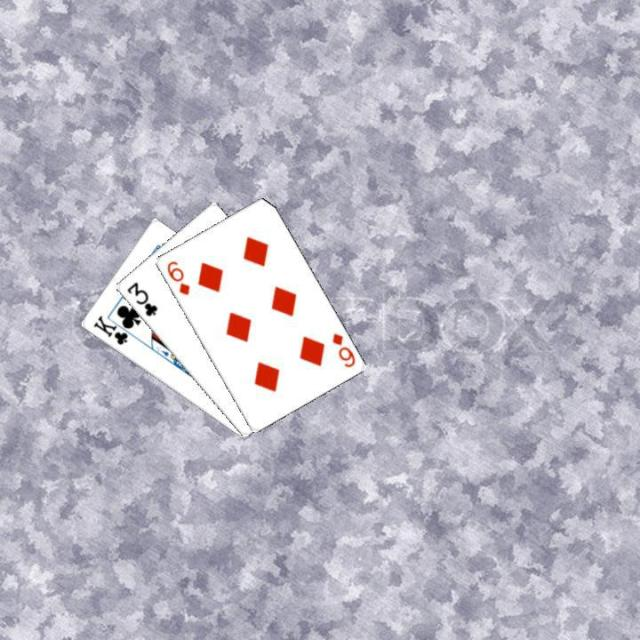3C: (123, 278, 159, 318)
6D: (328, 329, 356, 370), (163, 257, 191, 297)
KC: (89, 311, 137, 347)
